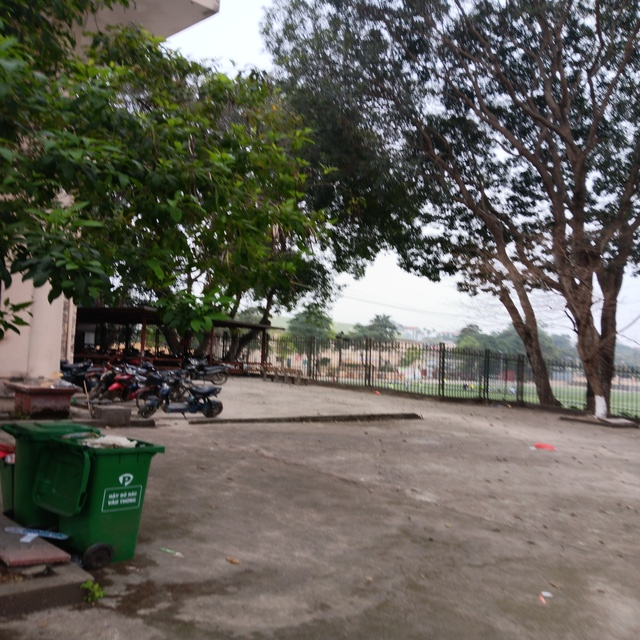thungrac: (13, 422, 110, 529), (66, 437, 148, 563)
